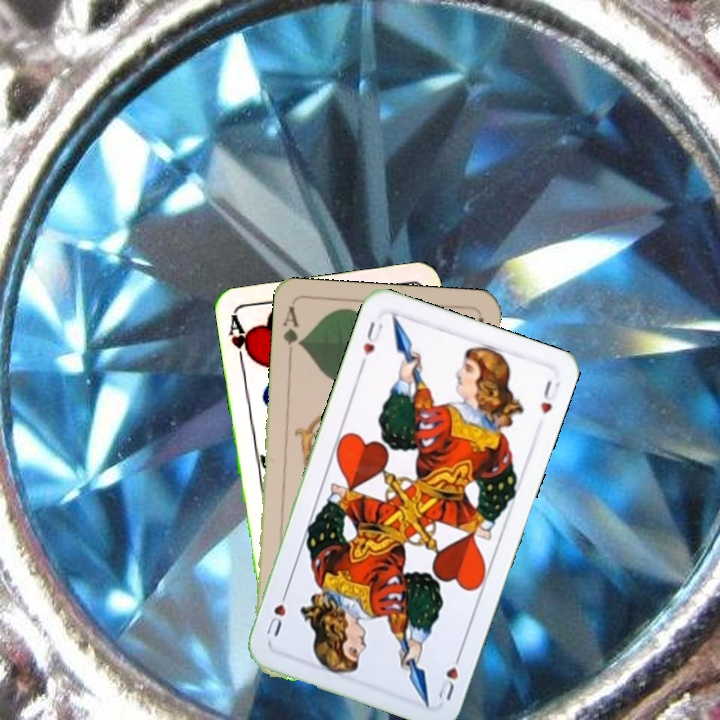GA: (279, 303, 305, 362)
HA: (225, 312, 256, 371)
HU: (433, 647, 465, 703), (356, 317, 386, 369)
